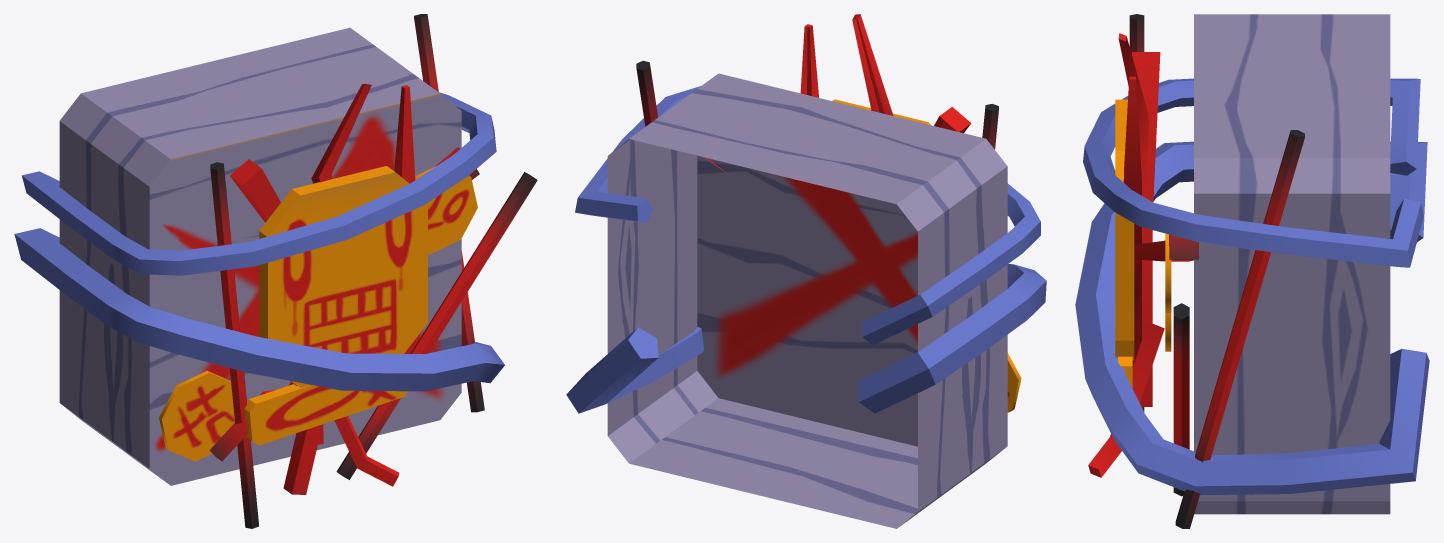
The model's file is SM_destructible3.FBX.
The picture shows the model from 3 angles, left to right: view 1: azimuth 30°, elevation 25°; view 2: azimuth 150°, elevation 25°; view 3: azimuth 270°, elevation 25°; orthographic projection. The views are drawn at different scales.
Parts seen in each view (by area): view 1: SM_destructible03; view 2: SM_destructible03; view 3: SM_destructible03.
Part boxes in pixels (x1,y1,x2,y2): SM_destructible03: [14, 14, 537, 528]; SM_destructible03: [566, 14, 1046, 528]; SM_destructible03: [1075, 14, 1429, 528].
Bounding box in the file's own units: 264 × 259 × 180.
